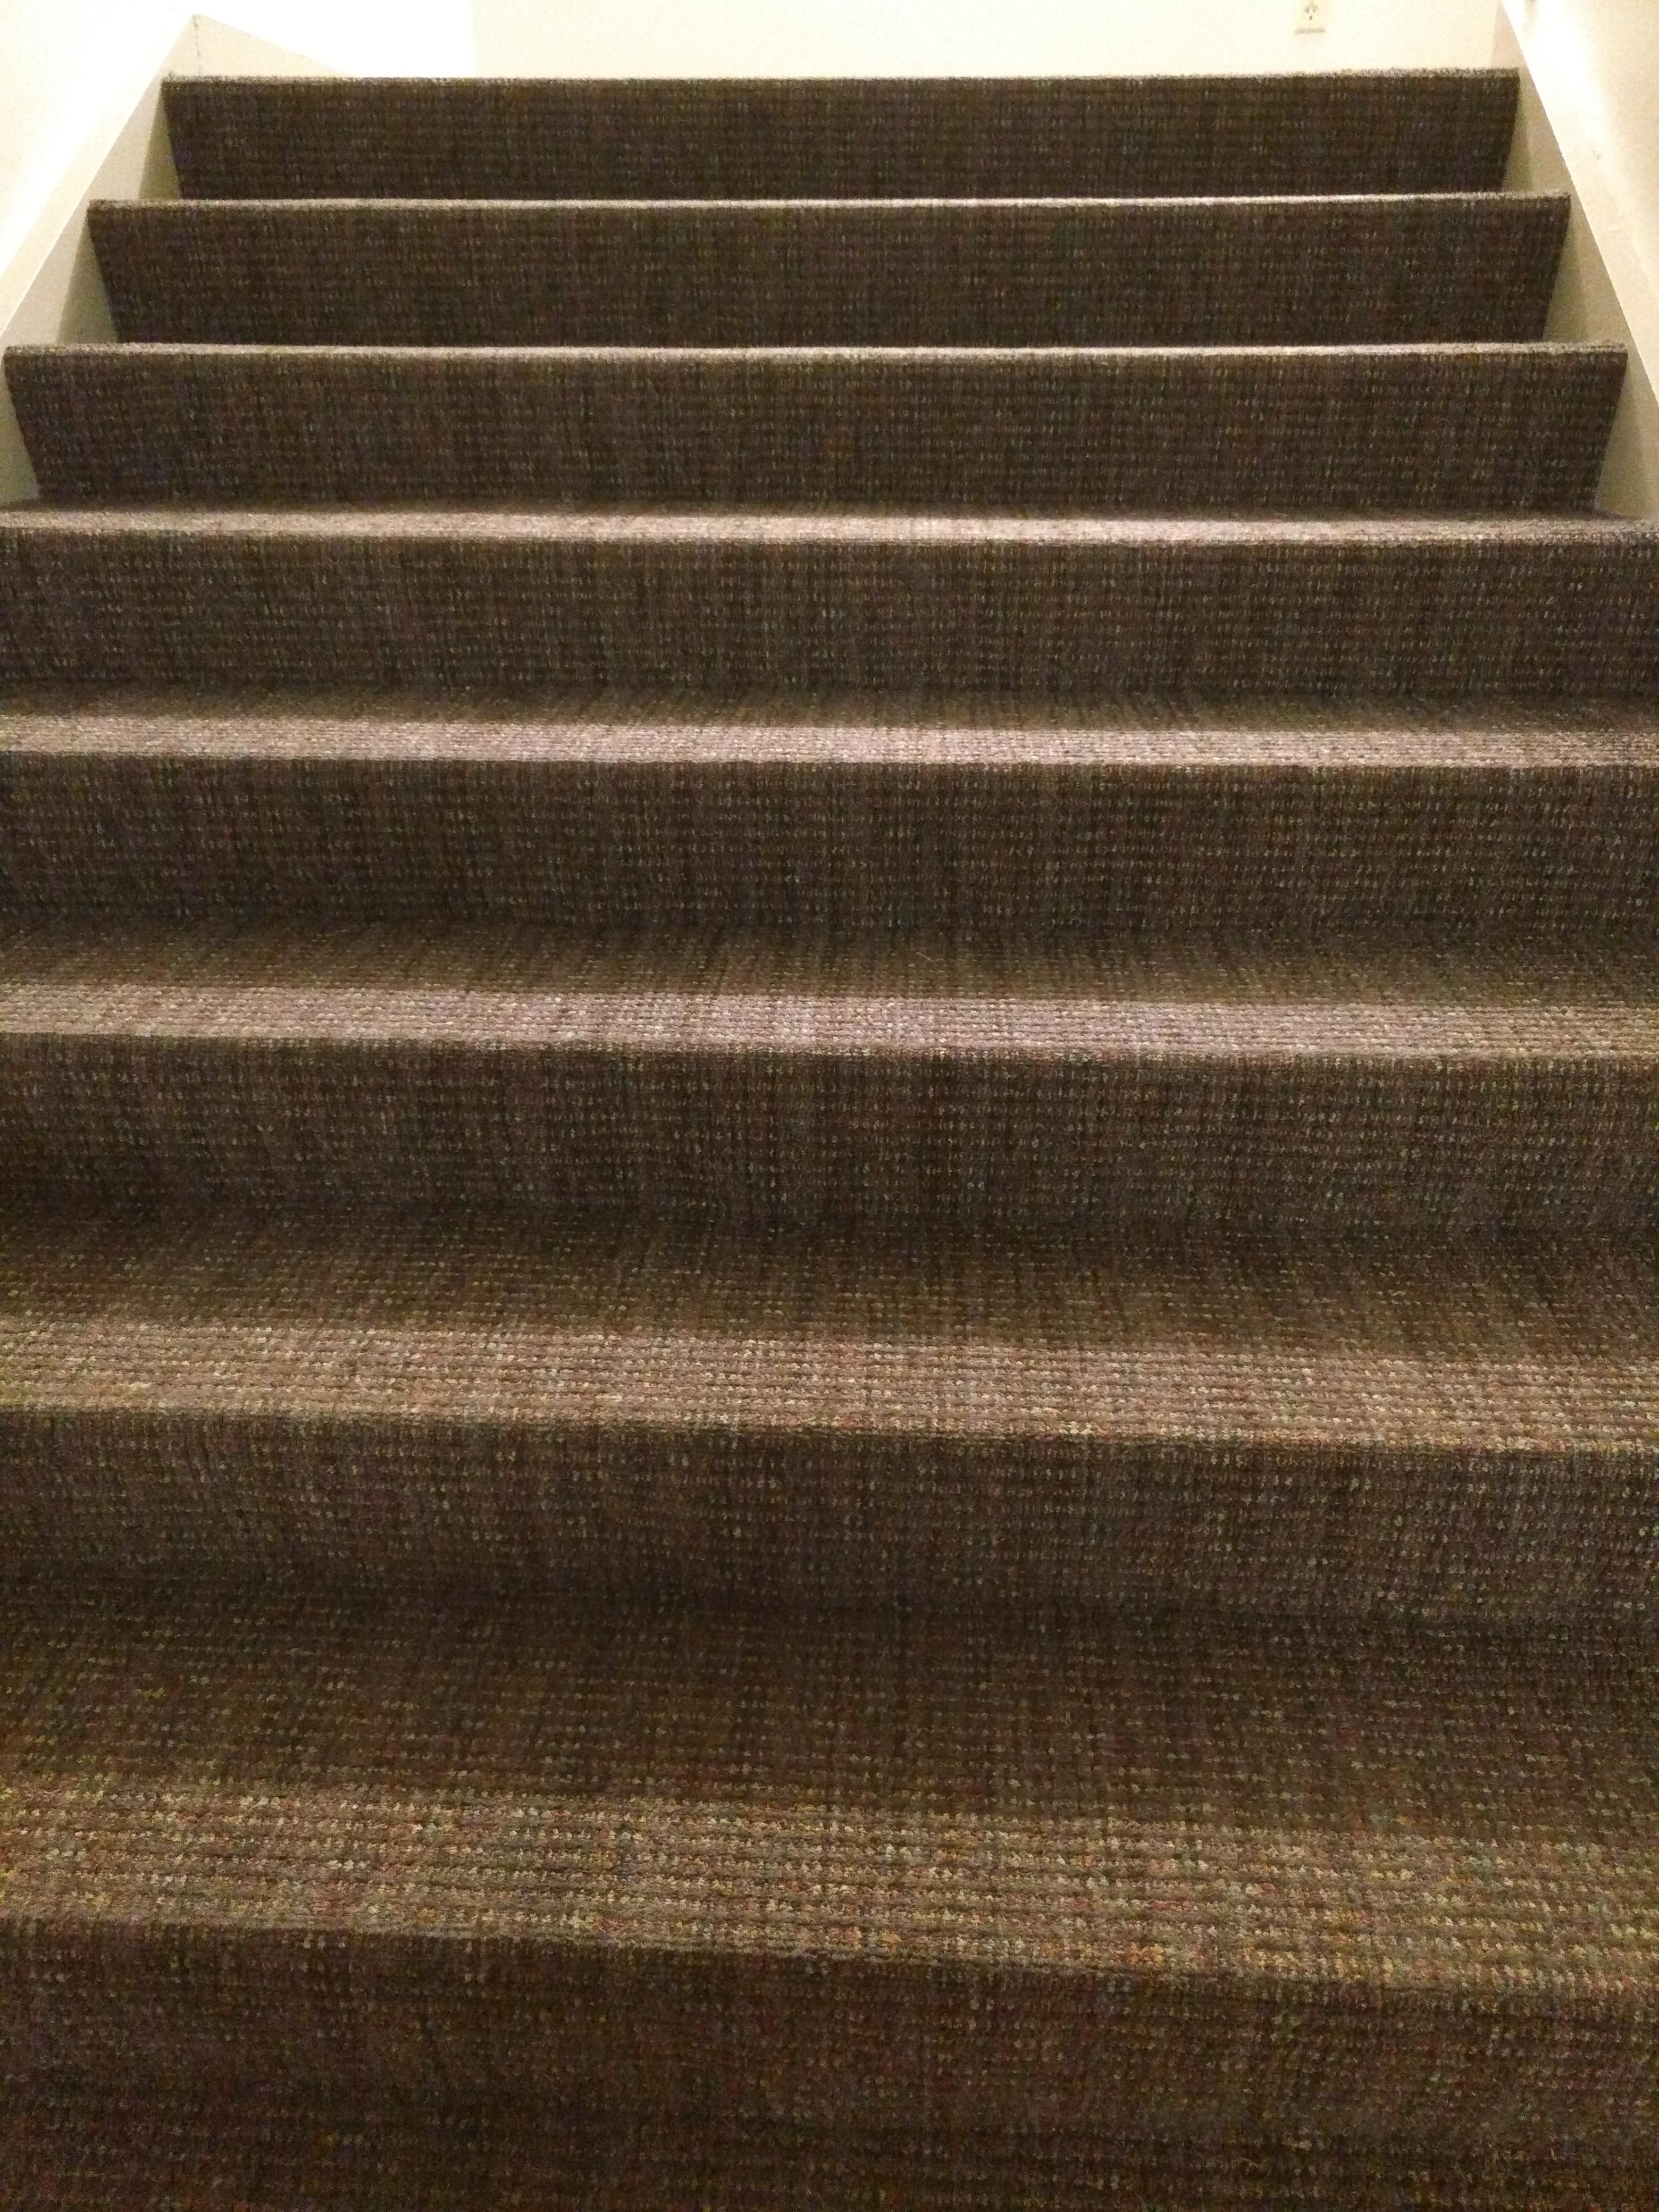stairs_up: (23, 61, 1659, 2078)
